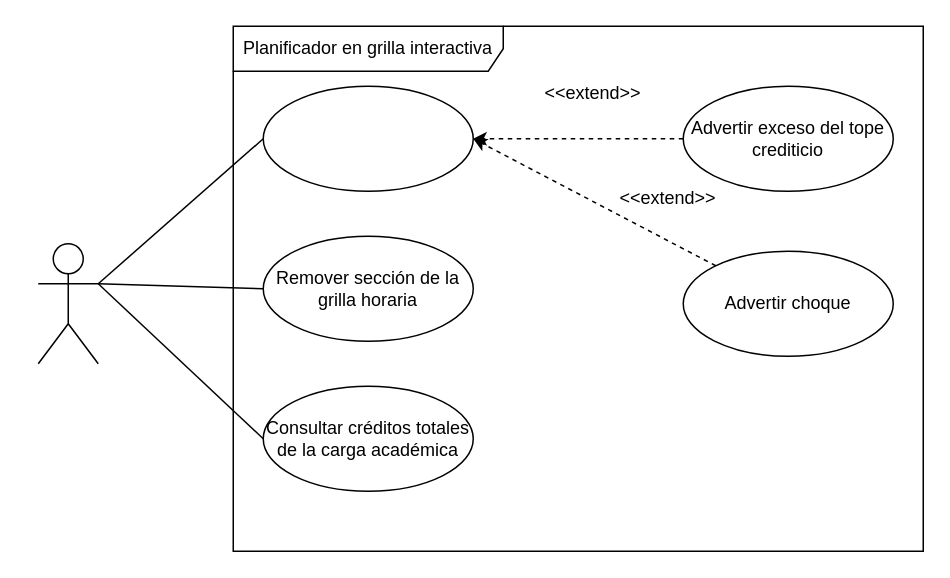
Image size: 950x578. Some labels were removed from this diagram. The shapes that lost their labels are listed below. From the top down, each one's centre as x and y in pixels, then its label:
At (367,138): "Agregar sección a la grilla horaria".
At (67,303): "Estudiante".
